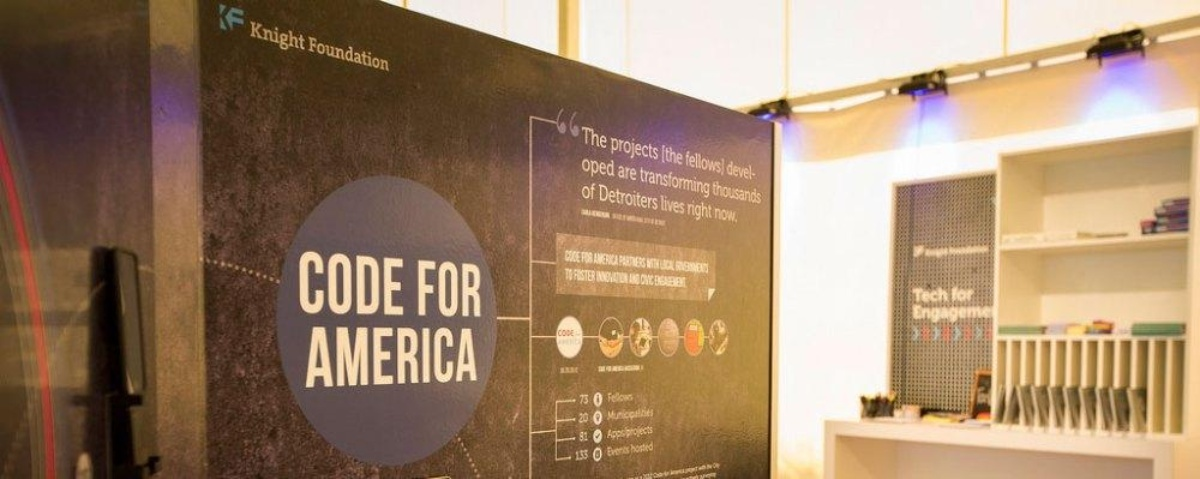text: (465, 323, 481, 391), (321, 323, 336, 391), (337, 323, 352, 391), (353, 323, 368, 391), (369, 323, 384, 391), (385, 323, 400, 391), (401, 323, 416, 391), (417, 323, 432, 391), (433, 323, 448, 391), (449, 323, 464, 391), (305, 250, 320, 317), (321, 250, 336, 317), (337, 250, 352, 317), (353, 250, 368, 317), (369, 250, 384, 317), (385, 250, 400, 317), (417, 259, 432, 317), (433, 259, 448, 317), (449, 259, 464, 317), (465, 259, 480, 317), (257, 17, 272, 58), (273, 17, 288, 58), (289, 17, 304, 58), (311, 323, 320, 391), (321, 35, 336, 75), (337, 35, 352, 75), (353, 35, 368, 75), (369, 35, 384, 75), (641, 165, 656, 201), (657, 165, 672, 201), (673, 165, 688, 201), (689, 165, 704, 201), (625, 131, 640, 165), (641, 131, 656, 165), (689, 147, 704, 181), (705, 147, 720, 181), (308, 35, 320, 75), (610, 131, 624, 165), (609, 182, 624, 212), (625, 182, 640, 212), (641, 182, 656, 212), (593, 123, 609, 151), (721, 179, 736, 208), (737, 179, 752, 208), (246, 17, 256, 58), (689, 199, 704, 225), (577, 249, 592, 275), (593, 249, 608, 275), (609, 249, 624, 275), (625, 249, 640, 275), (641, 249, 656, 275), (657, 249, 672, 275), (673, 249, 688, 275), (689, 249, 704, 275), (705, 249, 720, 275), (625, 160, 641, 184), (737, 158, 752, 183), (577, 267, 592, 292), (593, 267, 608, 292), (609, 267, 624, 292), (625, 267, 640, 292), (641, 267, 656, 292), (657, 267, 672, 292), (673, 267, 688, 292), (596, 182, 608, 212), (593, 158, 608, 182), (385, 35, 394, 75), (913, 302, 928, 325), (929, 302, 944, 325), (945, 302, 960, 325), (961, 302, 976, 325), (977, 302, 992, 325), (593, 207, 608, 230), (609, 207, 624, 230), (625, 207, 640, 230), (641, 207, 656, 230), (580, 123, 592, 151), (401, 250, 406, 317), (673, 195, 688, 217), (913, 285, 928, 307), (929, 285, 944, 307), (579, 177, 592, 202), (657, 207, 671, 230), (753, 179, 764, 208), (721, 206, 736, 227), (705, 199, 717, 225), (658, 195, 672, 217), (579, 207, 592, 230), (961, 284, 975, 305), (580, 158, 592, 182), (705, 165, 713, 201), (609, 440, 624, 459), (625, 440, 640, 459), (641, 440, 656, 459), (565, 267, 576, 292), (577, 391, 592, 409), (661, 143, 672, 167), (673, 143, 684, 167), (711, 179, 720, 208), (566, 249, 576, 275), (609, 406, 624, 422), (625, 406, 640, 422), (641, 406, 656, 422), (609, 425, 624, 441), (625, 425, 640, 441), (577, 446, 591, 463), (481, 259, 485, 317), (727, 158, 736, 183), (950, 284, 960, 305), (578, 410, 592, 425), (578, 430, 592, 445), (721, 147, 727, 181), (301, 250, 304, 317), (616, 160, 624, 184), (641, 425, 653, 441), (609, 392, 624, 404), (753, 158, 760, 183), (609, 158, 616, 182), (905, 302, 912, 325), (609, 364, 624, 374), (625, 364, 640, 374), (625, 392, 637, 404), (657, 131, 661, 165), (684, 147, 688, 181), (945, 285, 951, 307), (305, 17, 308, 58), (657, 182, 661, 212), (993, 302, 998, 325), (597, 364, 608, 374), (715, 206, 720, 227), (737, 206, 742, 227), (684, 199, 688, 225), (561, 329, 574, 337), (593, 177, 597, 202), (638, 165, 640, 201), (605, 440, 608, 459), (573, 446, 576, 463), (689, 267, 691, 292), (641, 364, 646, 374), (605, 406, 608, 422), (605, 392, 608, 404), (721, 249, 722, 275), (557, 329, 560, 337), (911, 285, 912, 307), (657, 440, 658, 459), (657, 406, 658, 422), (607, 425, 608, 441)
